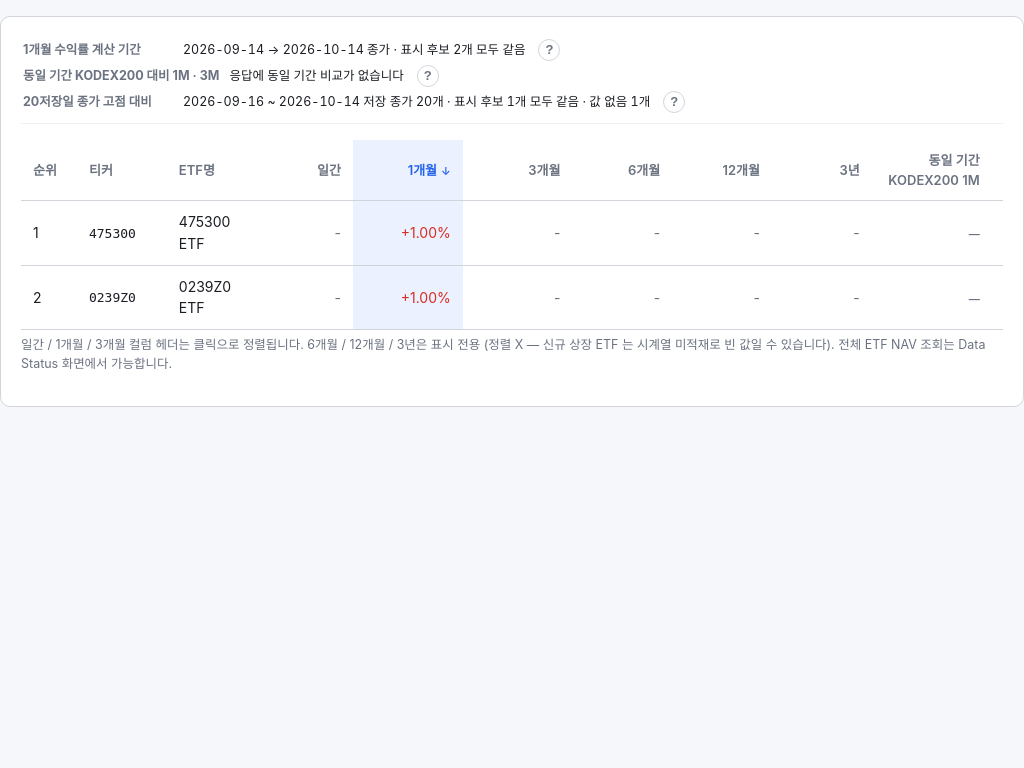
Scenario: 표 칸 · 기간 줄 (POC5-25) › 기간 상자 셋째 줄 = 공통 기간 · 값 없음 수 · ? 에 뜻과 한계
Step 1. Click the button named "20저장일 종가 고점 대비 도움말" → (674, 102), box [654,82,694,122]
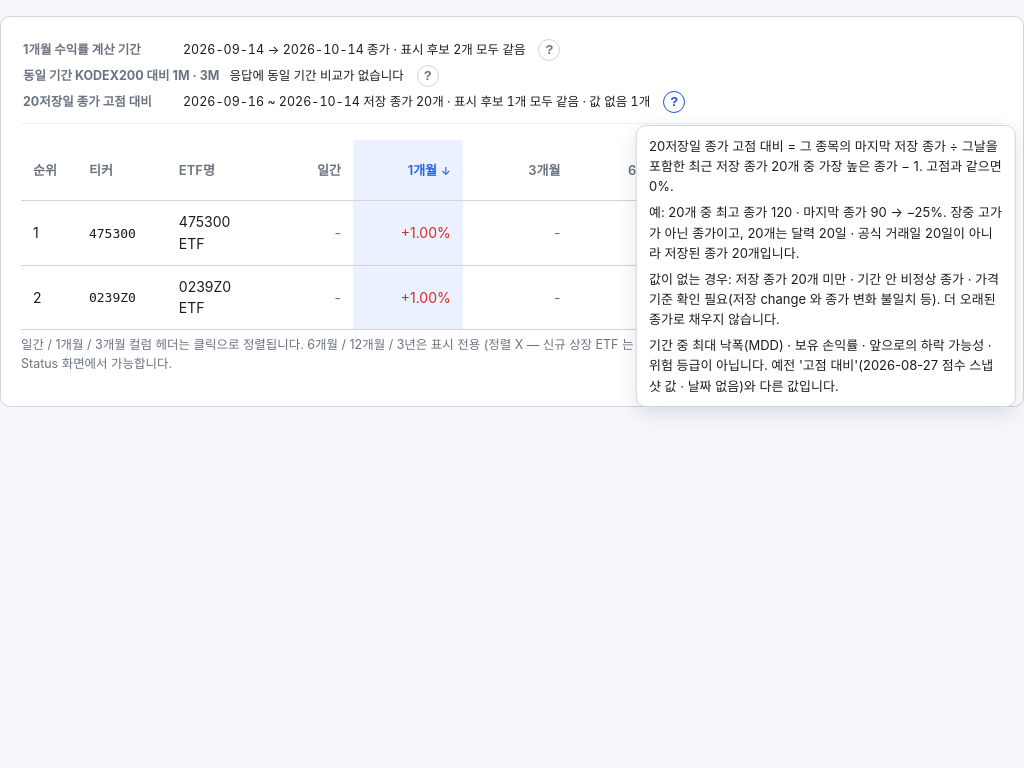
Expected: the element with test id "return-period-line" shows "기간 중 최대 낙폭(MDD)", [649,337,993,394]
Expected: the element with test id "return-period-line" shows "2026-08-27 점수 스냅샷 값", [649,337,993,394]
